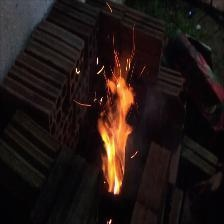fire: (70, 53, 150, 209)
